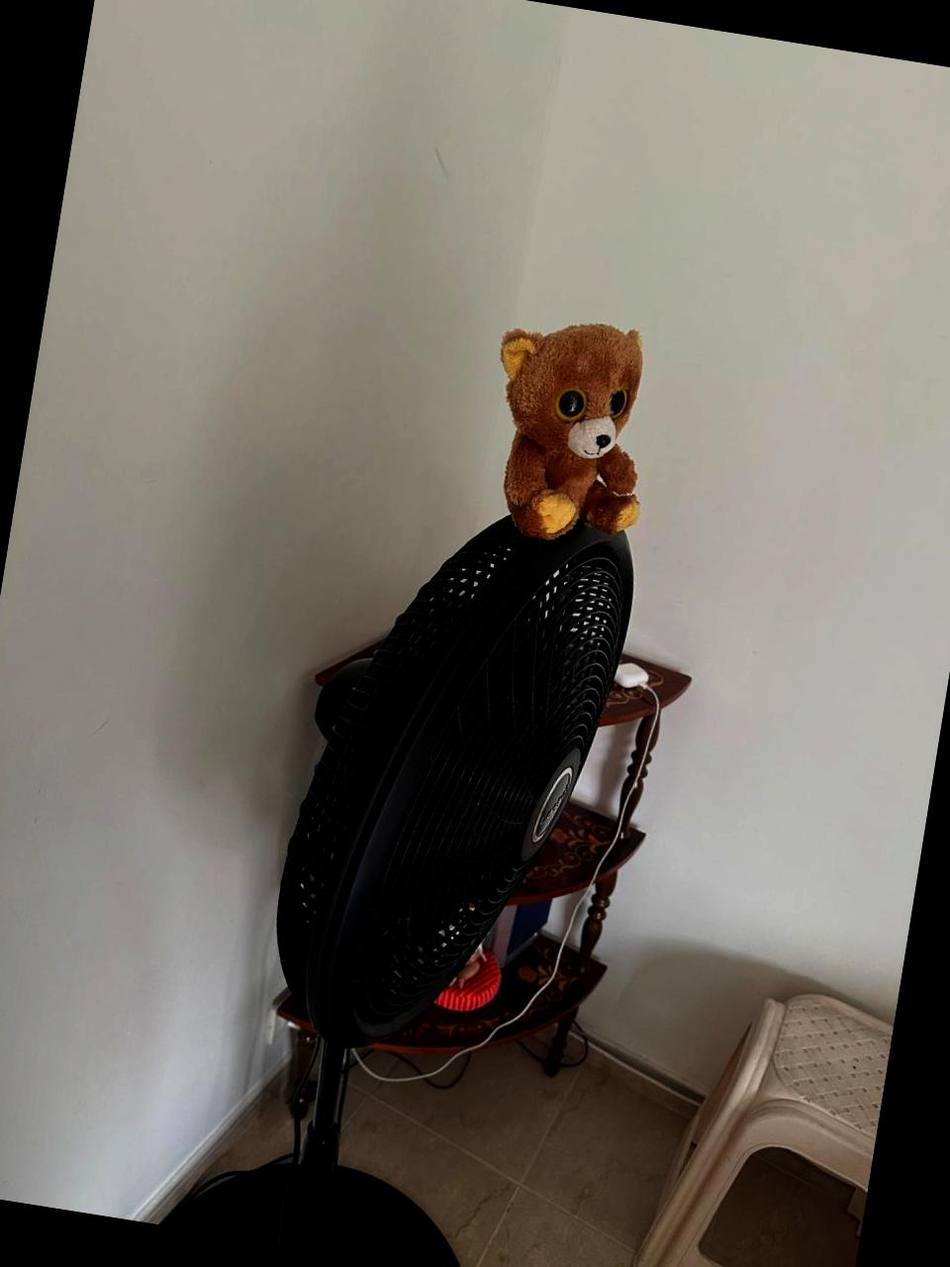peluche_sebastian: (470, 307, 670, 549)
